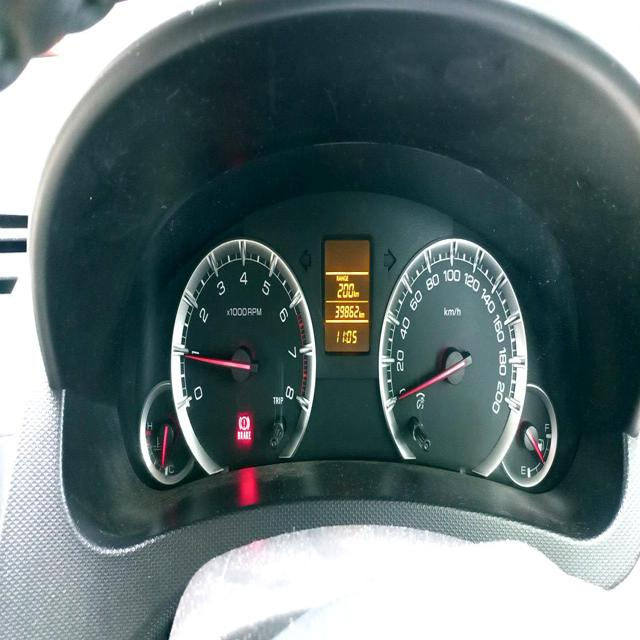odometer: (332, 301, 360, 320)
